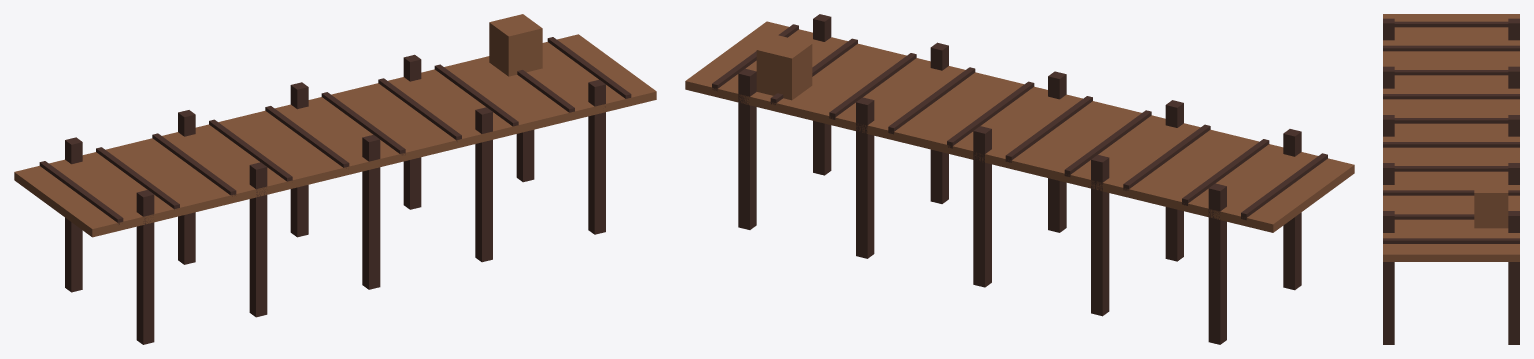
Rendered from pier.glb.
3 renders of one model, left to right at view 1: azimuth 30°, elevation 25°; view 2: azimuth 150°, elevation 25°; view 3: azimuth 270°, elevation 25°, orthographic. The views are drawn at different scales.
Parts seen in each view (by area): view 1: deck, barrel, pile.002, pile, pile.004, pile.008, pile.006, pile.001, pile.005, pile.007, pile.003, pile.009 (+10 smaller); view 2: deck, barrel, pile.005, pile.007, pile.003, pile.009, pile.001, pile, pile.002, pile.004, pile.006, pile.008 (+10 smaller); view 3: deck, barrel, pile.008, pile.009, plank.001, plank.003, plank.005, plank.009, plank, plank.004, plank.006, plank.002 (+10 smaller).
Boxes of the visible parts, left/top/right/bottom form: deck: left=14, top=34, right=656, bottom=237; barrel: left=489, top=14, right=542, bottom=76; pile.002: left=249, top=162, right=267, bottom=317; pile: left=136, top=190, right=154, bottom=344; pile.004: left=362, top=134, right=380, bottom=289; pile.008: left=588, top=79, right=605, bottom=234; pile.006: left=475, top=107, right=492, bottom=262; pile.001: left=65, top=137, right=82, bottom=292; pile.005: left=290, top=82, right=308, bottom=237; pile.007: left=403, top=54, right=421, bottom=209; pile.003: left=178, top=110, right=195, bottom=264; pile.009: left=516, top=130, right=534, bottom=182; deck: left=685, top=21, right=1354, bottom=232; barrel: left=756, top=35, right=812, bottom=100; pile.005: left=973, top=126, right=991, bottom=287; pile.007: left=856, top=97, right=874, bottom=258; pile.003: left=1091, top=155, right=1109, bottom=316; pile.009: left=738, top=68, right=756, bottom=229; pile.001: left=1208, top=183, right=1226, bottom=344; pile: left=1283, top=129, right=1301, bottom=290; pile.002: left=1165, top=100, right=1183, bottom=261; pile.004: left=1048, top=71, right=1066, bottom=232; pile.006: left=930, top=42, right=948, bottom=203; pile.008: left=813, top=14, right=831, bottom=175; deck: left=1383, top=14, right=1519, bottom=261; barrel: left=1474, top=178, right=1508, bottom=228; pile.008: left=1383, top=211, right=1394, bottom=344; pile.009: left=1508, top=211, right=1519, bottom=344; plank.001: left=1383, top=45, right=1519, bottom=51; plank.003: left=1383, top=94, right=1519, bottom=99; plank.005: left=1383, top=142, right=1519, bottom=147; plank.009: left=1383, top=238, right=1519, bottom=243; plank: left=1394, top=21, right=1508, bottom=27; plank.004: left=1394, top=118, right=1508, bottom=123; plank.006: left=1394, top=166, right=1508, bottom=171; plank.002: left=1394, top=70, right=1508, bottom=75.
Size of the model in its own units: 10 by 2.85 by 2.4.
